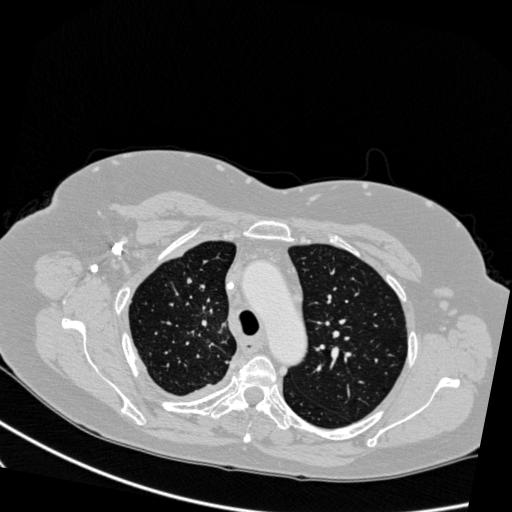nodule: (184, 275, 196, 287)
